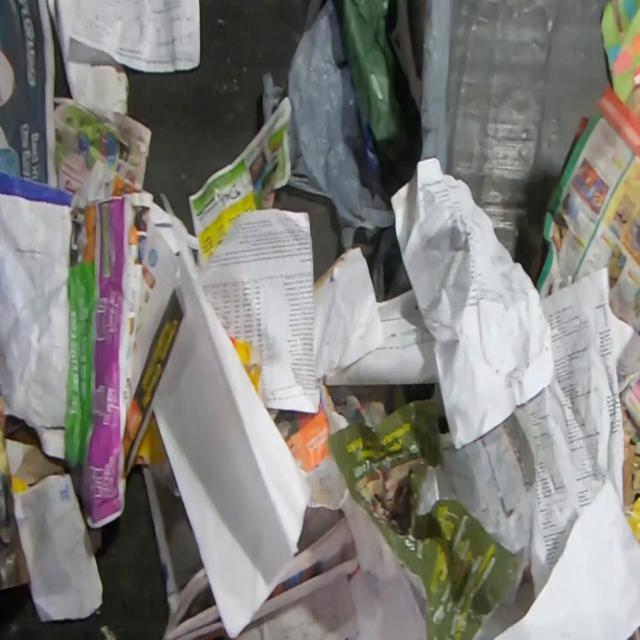soft_plastic: (287, 0, 453, 304), (261, 70, 283, 126)
